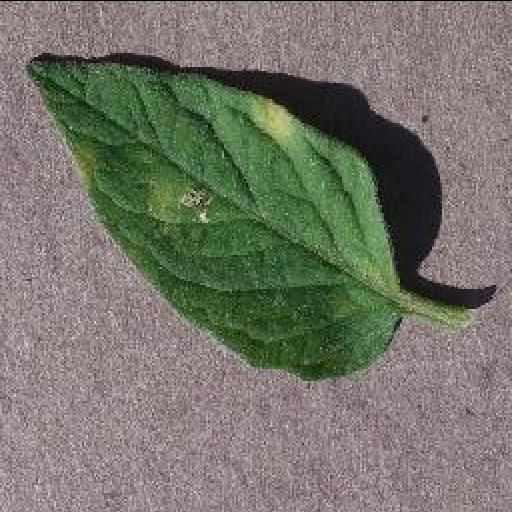disease_tomato: (22, 56, 398, 378)
